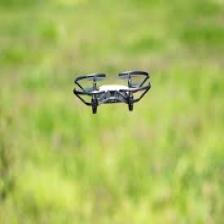drone: (73, 71, 151, 112)
